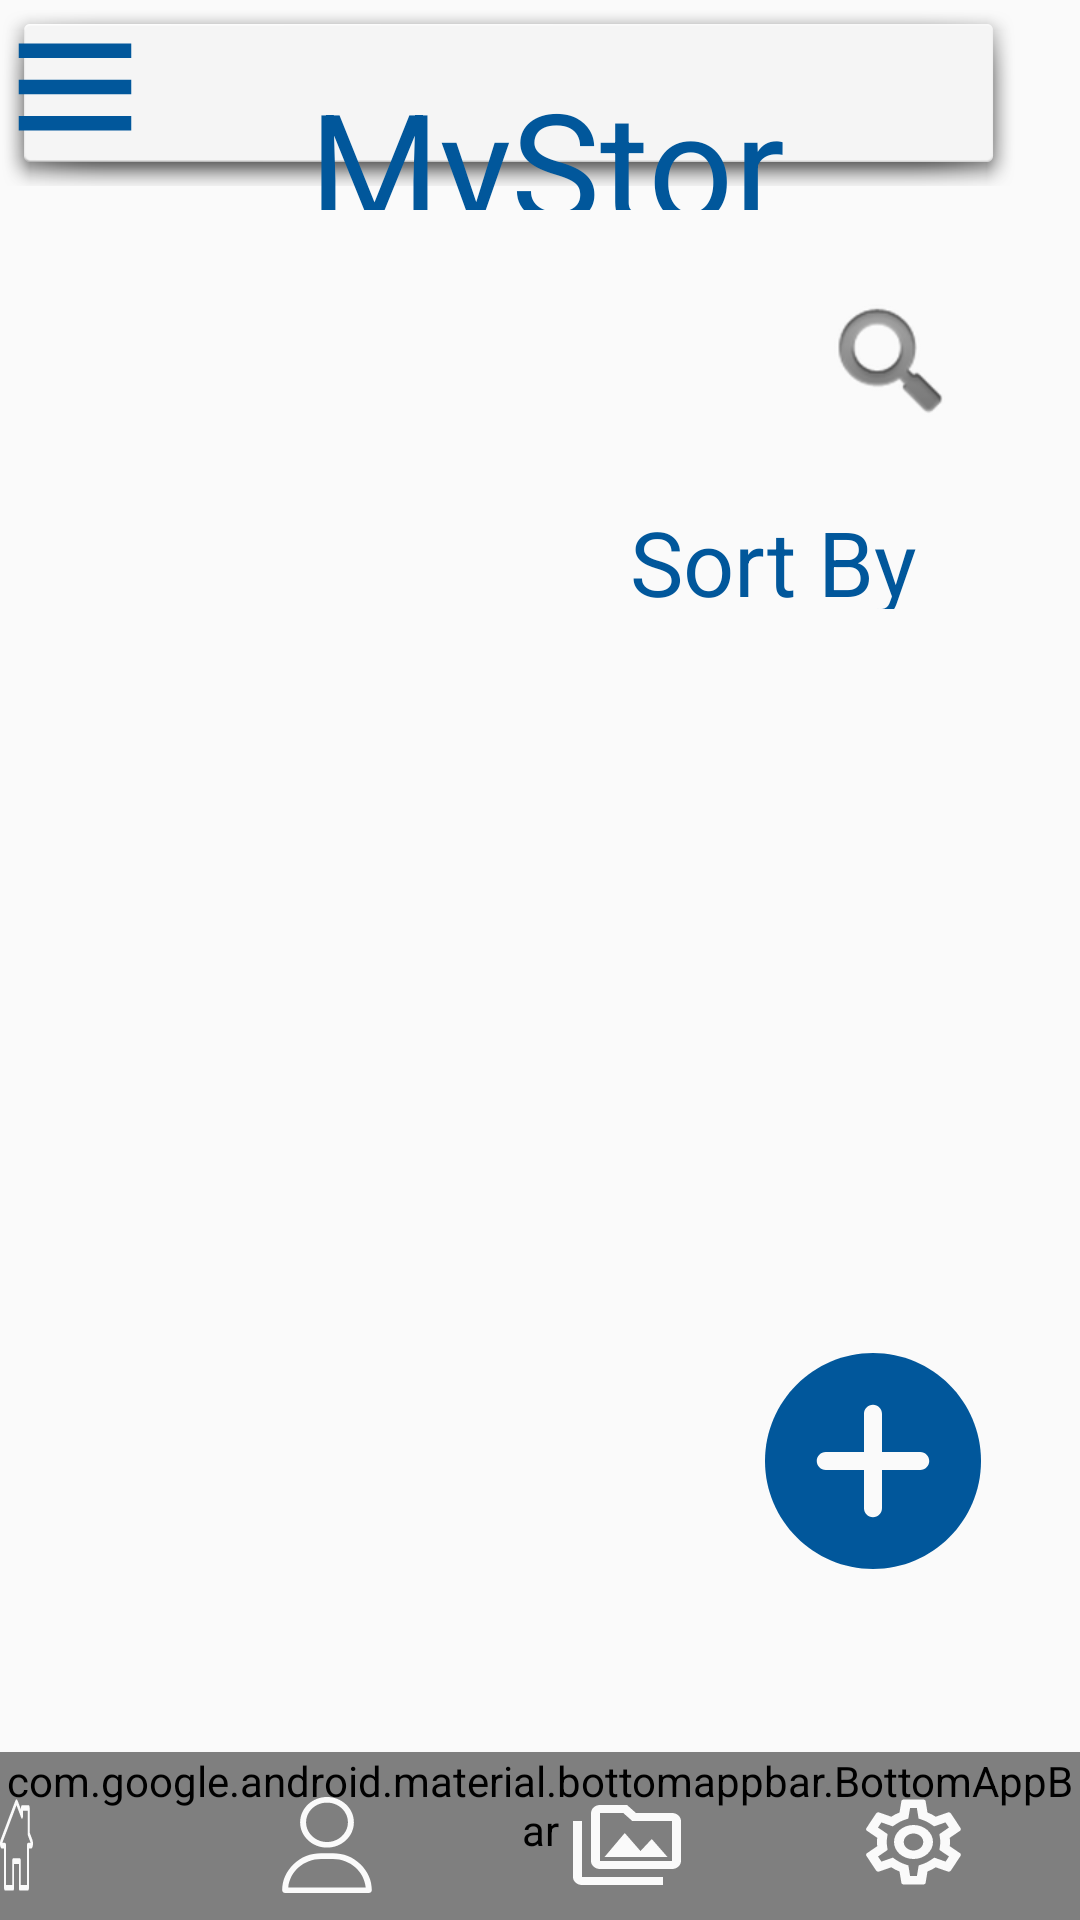

Named icons in this screenshot (1080 × 1920) and their centers, [x,y]:
menu: [75,87]
perm media: [627,1845]
plus: [873,1461]
search category: [890,360]
settings: [913,1842]
